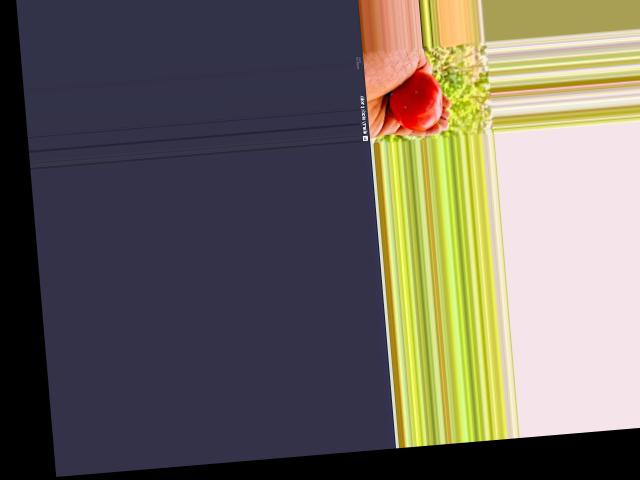tomato: (387, 69, 444, 132)
